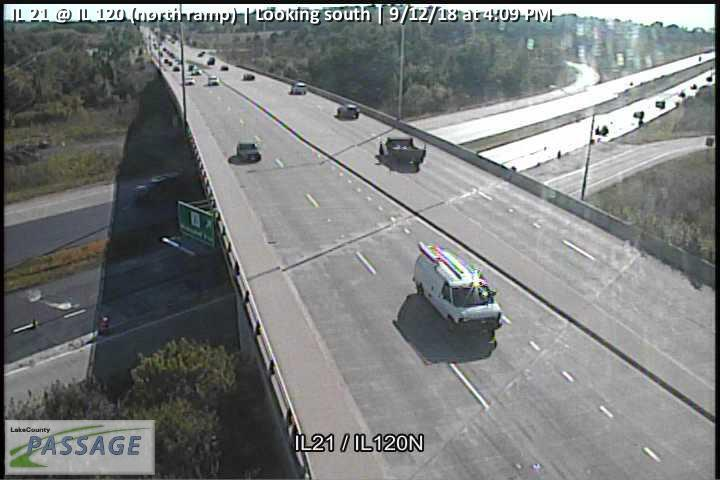SUV: (412, 245, 503, 332), (237, 141, 262, 162), (337, 104, 360, 118)
Truck: (379, 135, 427, 167)
